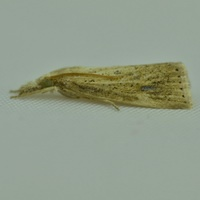insect: (11, 62, 191, 109)
